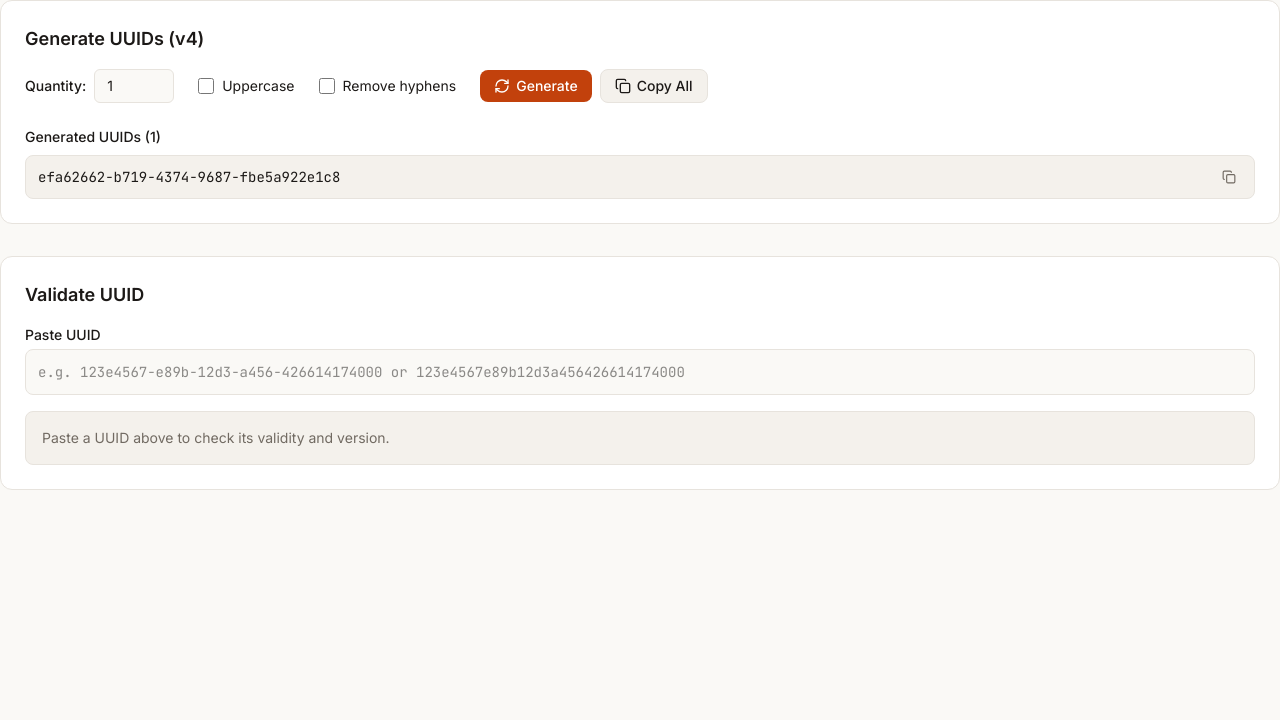
UuidGenerator Component › displays failure feedback when copying fails
What coordinates should you click on to do the following:
click the button "Copy All"
I would click on:
 (654, 86)
Its box is [600,69,708,103].
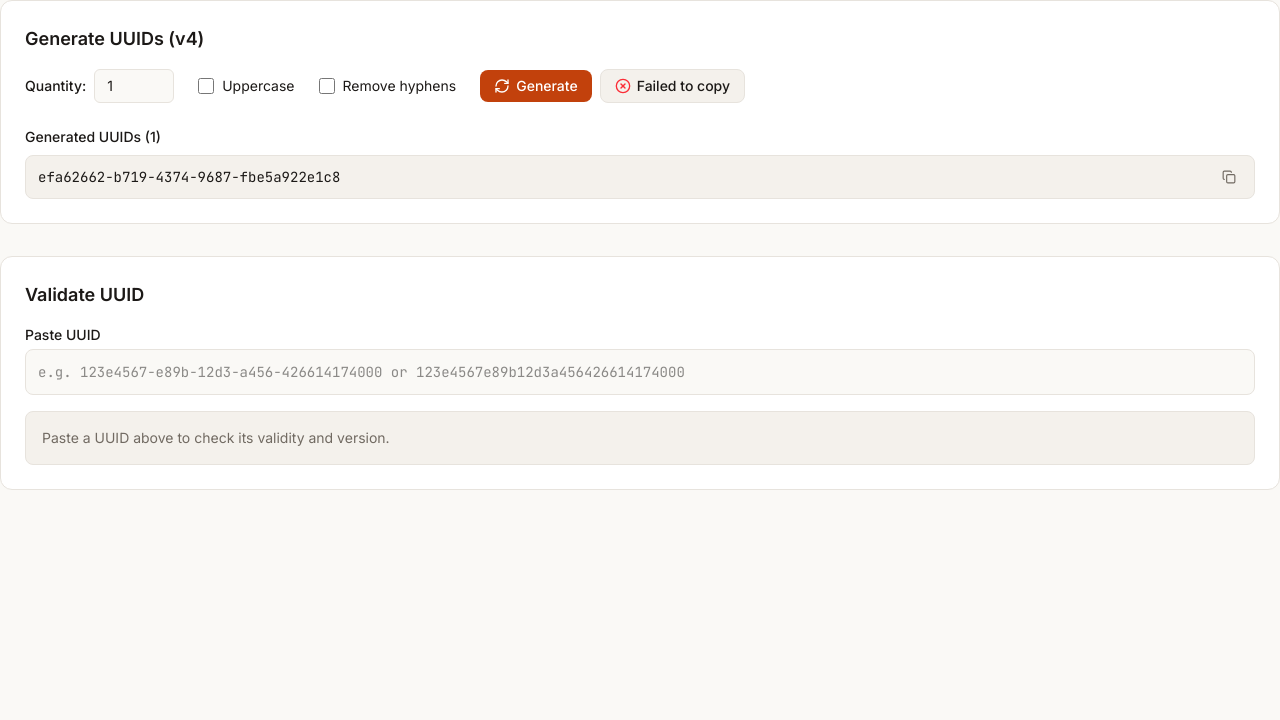
Check: the button "Failed to copy" is shown, box [600,69,745,103]
